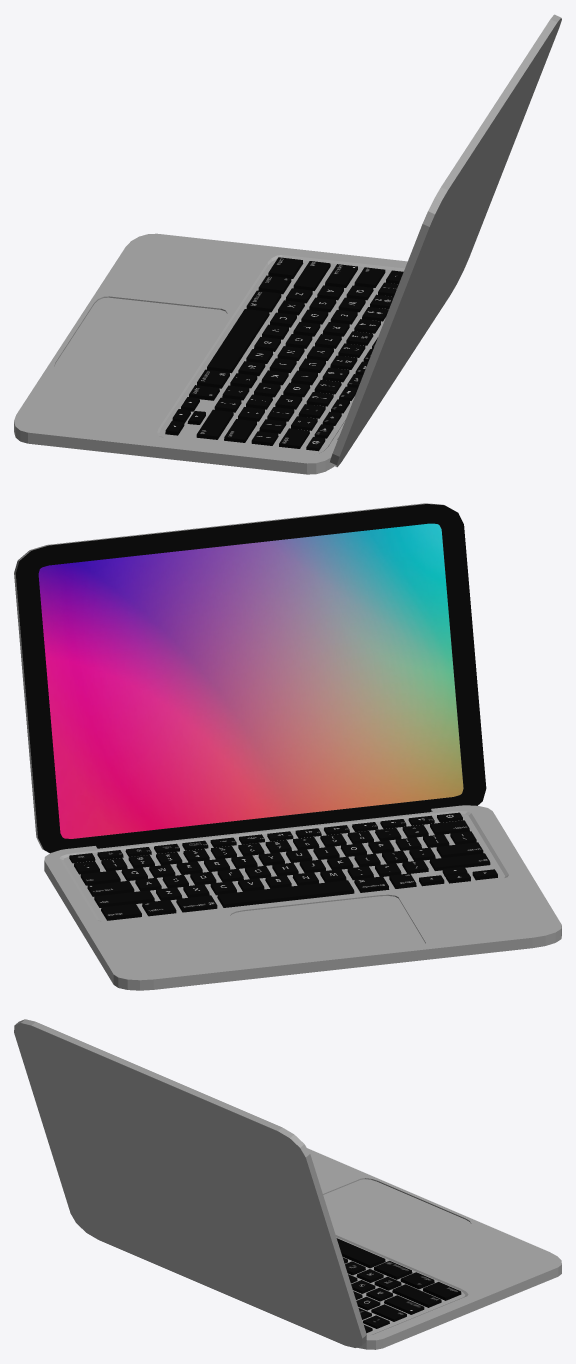
File: laptop.fbx
3 renders of one model, top to bottom at view 1: azimuth 30°, elevation 25°; view 2: azimuth 150°, elevation 25°; view 3: azimuth 270°, elevation 25°, orthographic. The views are drawn at different scales.
Parts seen in each view (by area): view 1: Main, Buttons, Screen; view 2: Screen, Main, Buttons; view 3: Screen, Main, Buttons.
Boxes of the visible parts, left/top/right/bottom form: Main: left=14, top=233, right=407, bottom=474; Buttons: left=165, top=257, right=403, bottom=451; Screen: left=329, top=14, right=561, bottom=467; Screen: left=14, top=503, right=486, bottom=853; Main: left=44, top=805, right=561, bottom=990; Buttons: left=69, top=812, right=497, bottom=920; Screen: left=14, top=1019, right=366, bottom=1347; Main: left=307, top=1148, right=561, bottom=1349; Buttons: left=336, top=1238, right=461, bottom=1333.
Bounding box in the file's own units: 57.01 × 28.13 × 56.96.
